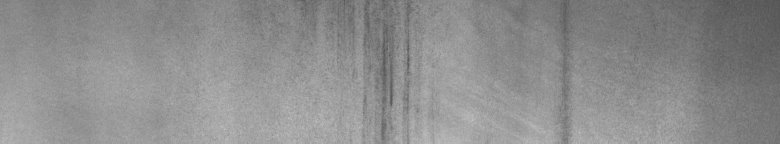ka: (352, 4, 421, 136)
